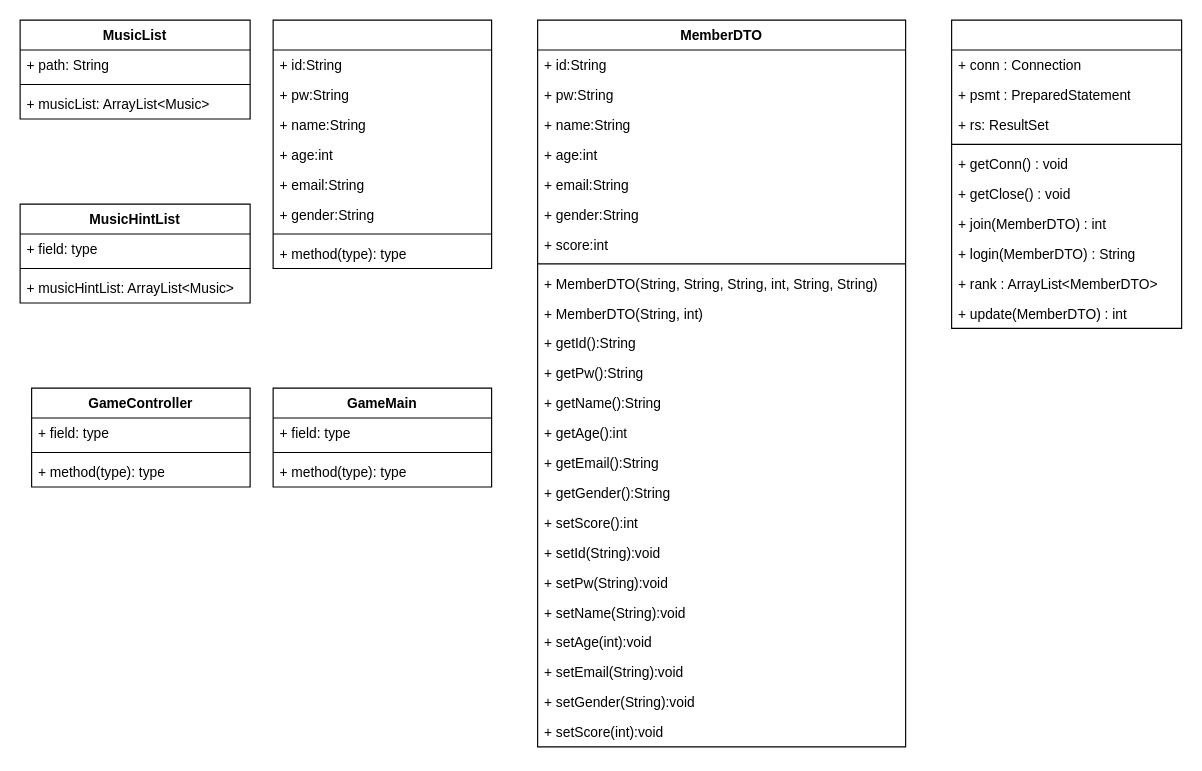
Image size: 1202x771. Some labels were removed from this diagram. The shapes that lost their labels are listed below. From the top down, each one's box as (x1, y1, x2, y2) in pixels, then its label:
(272, 19, 492, 269): Member
(950, 19, 1182, 328): MemberDAO
